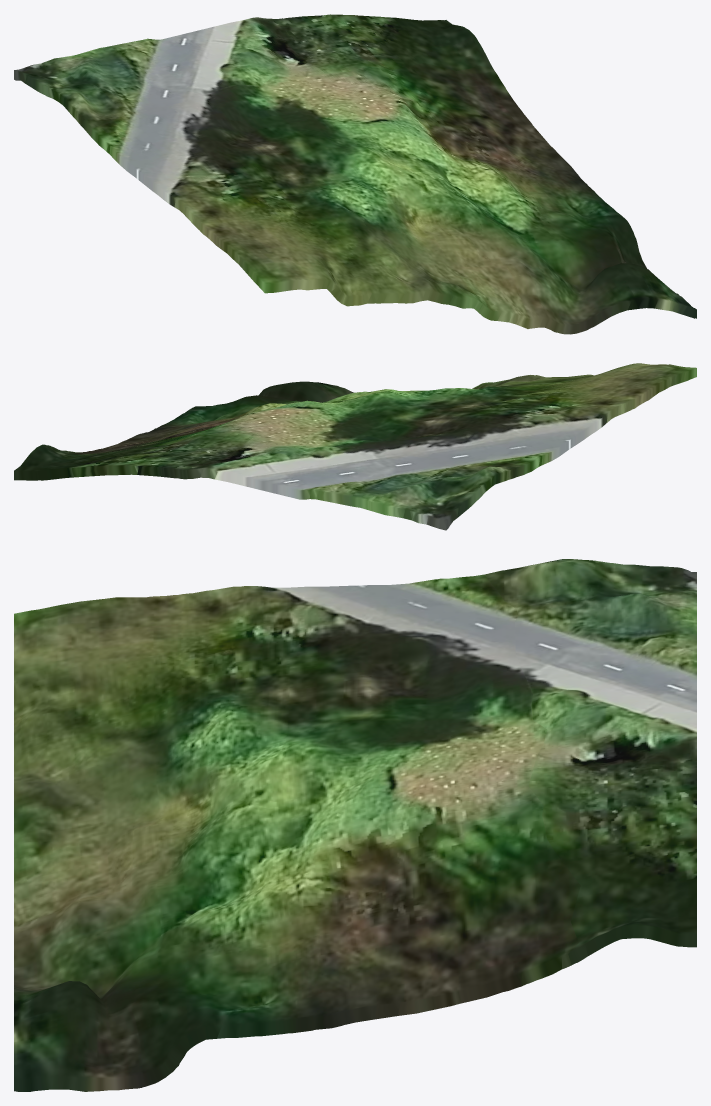
File: z20-167562-405176-h0-yup-uvflip-v3-world.glb
3 views of the same model, one above another, from view 1: azimuth 30°, elevation 25°; view 2: azimuth 150°, elevation 25°; view 3: azimuth 270°, elevation 25° (orthographic). The views are drawn at different scales.
Bounding box in the file's own units: 30.16 × 12.2 × 30.32.
Materials: 1 (1 with a texture image).
